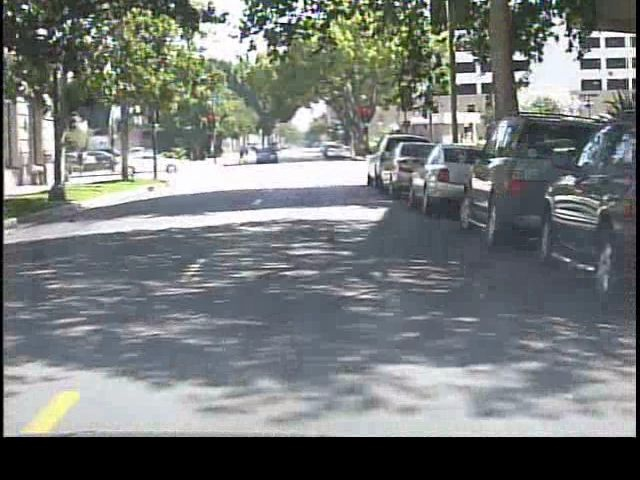person: (237, 143, 252, 166)
